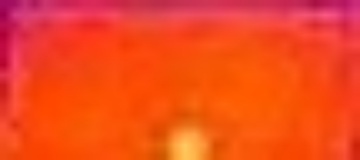Hotspot: (165, 126, 214, 160)
